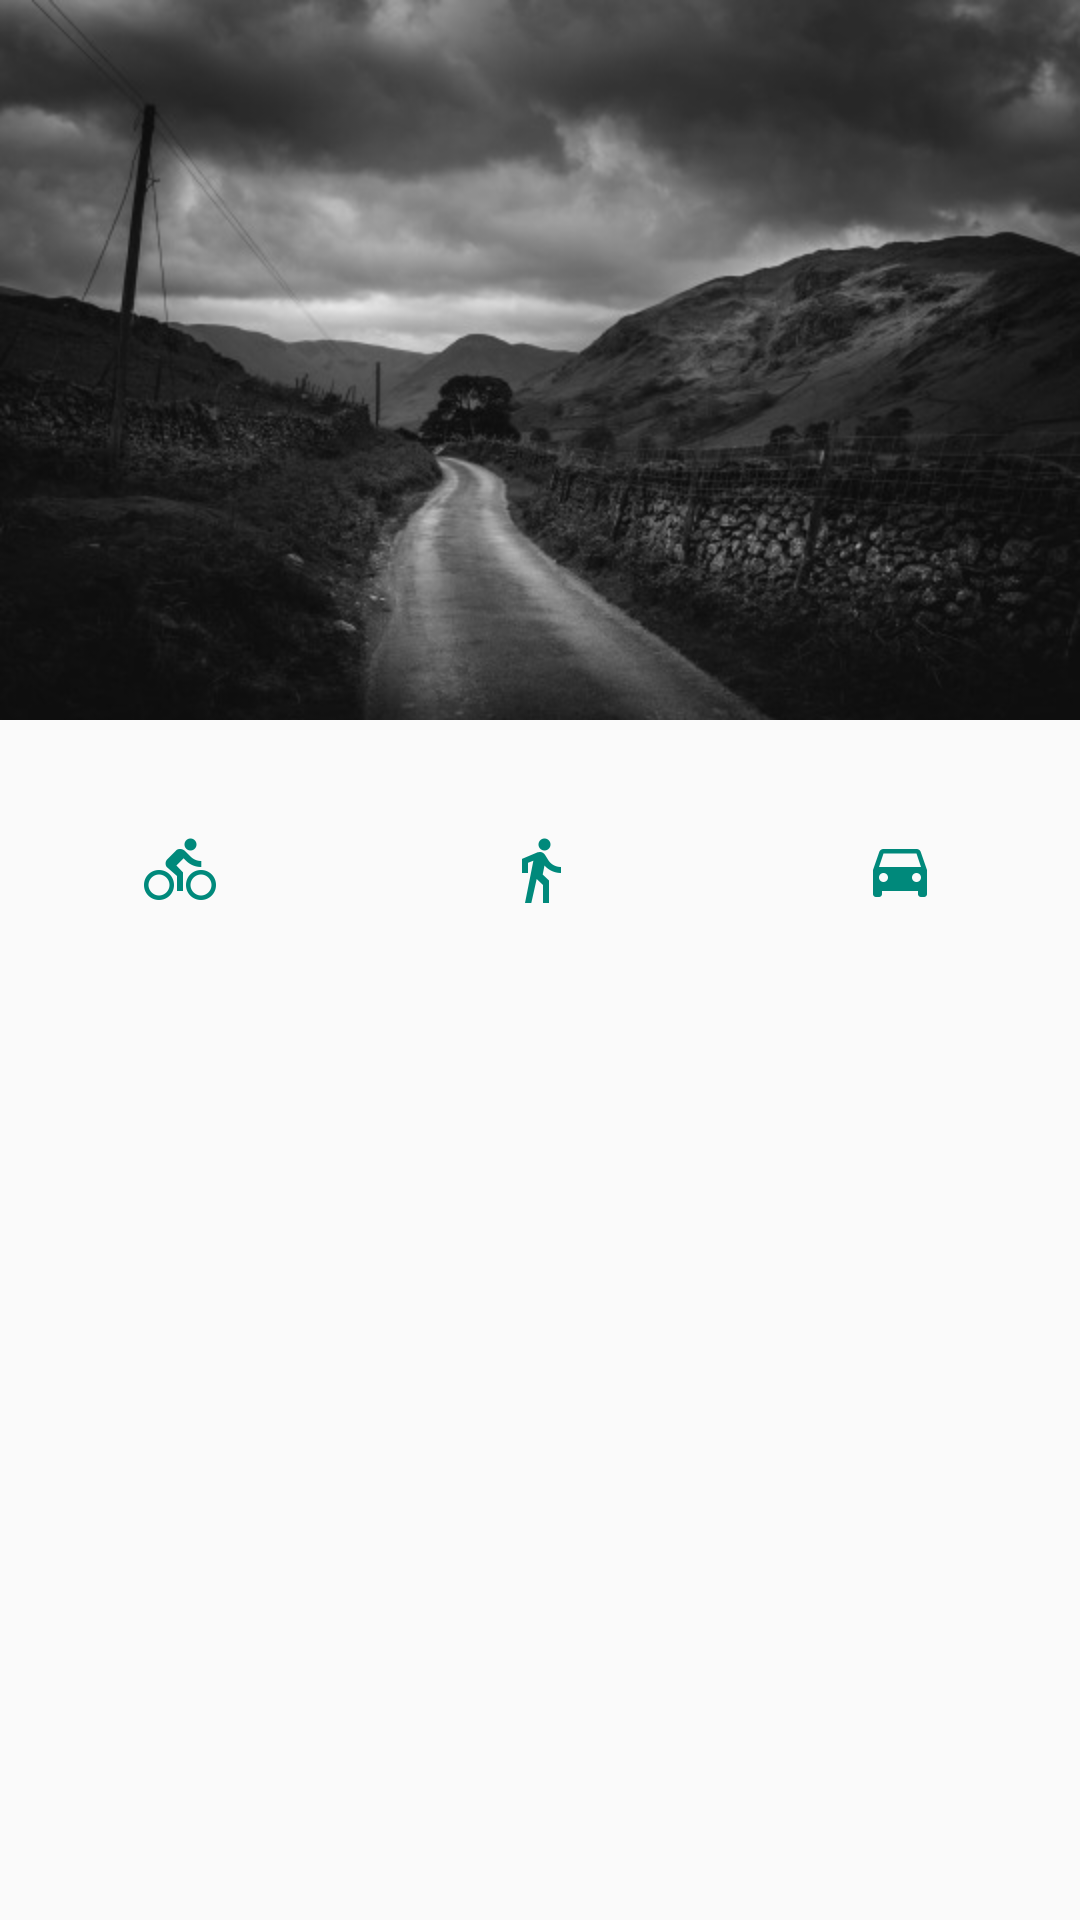

Icons on this 1080w x 1920h Android screen, each with its box as (x1, y1, x2, y2):
directions bike: (144, 838, 216, 900)
directions car: (873, 849, 927, 897)
directions walk: (522, 838, 561, 903)
